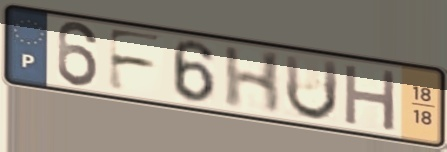6: (169, 38, 220, 107), (55, 20, 99, 89)
F: (105, 25, 167, 95)
H: (222, 45, 285, 117), (341, 61, 399, 134)
U: (282, 52, 341, 123)
